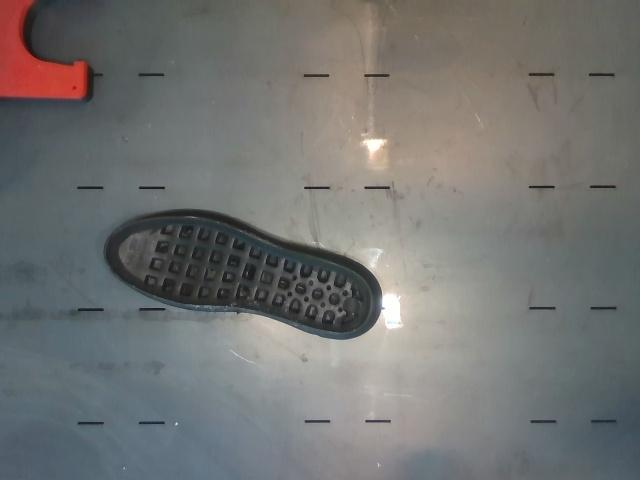shoes: (106, 216, 372, 332)
